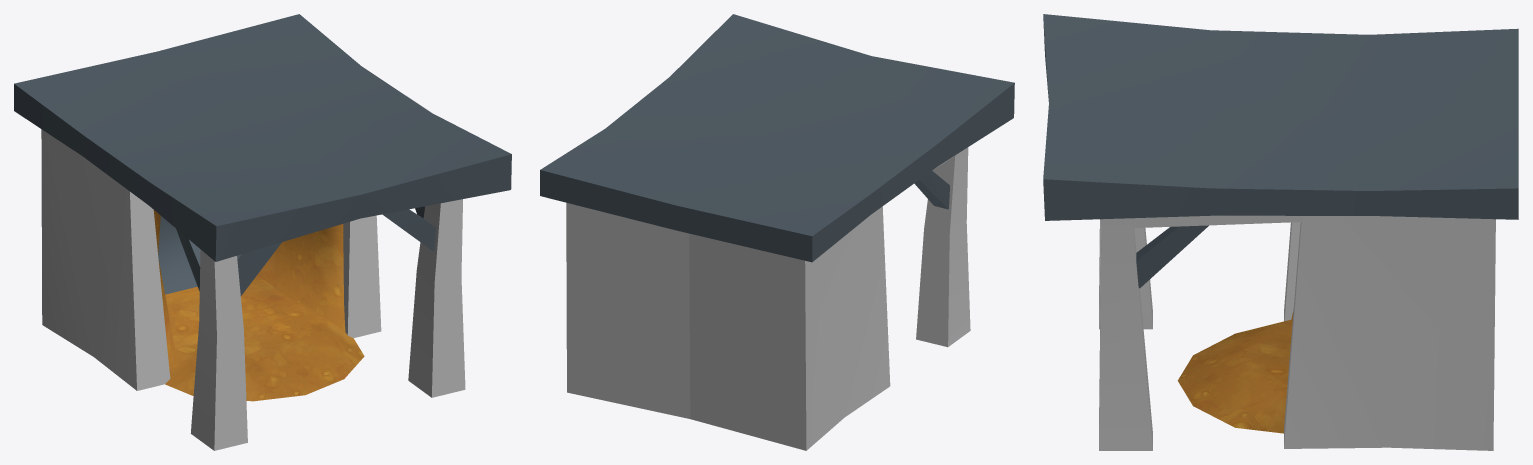
Rendered from Mine01_a01.FBX.
3 renders of one model, left to right at view 1: azimuth 30°, elevation 25°; view 2: azimuth 150°, elevation 25°; view 3: azimuth 270°, elevation 25°, orthographic. The views are drawn at different scales.
Visible parts, largest first — view 1: Mine01_a01; view 2: Mine01_a01; view 3: Mine01_a01.
Part boxes in pixels (x1=…): Mine01_a01: x1=14, y1=14, x2=511, y2=450; Mine01_a01: x1=540, y1=14, x2=1014, y2=450; Mine01_a01: x1=1043, y1=14, x2=1518, y2=450.
Bounding box in the file's own units: 421 × 337 × 512.
